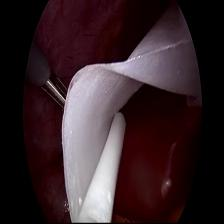Grasper: (35, 61, 68, 106)
Specimen Bag: (59, 9, 206, 223)
